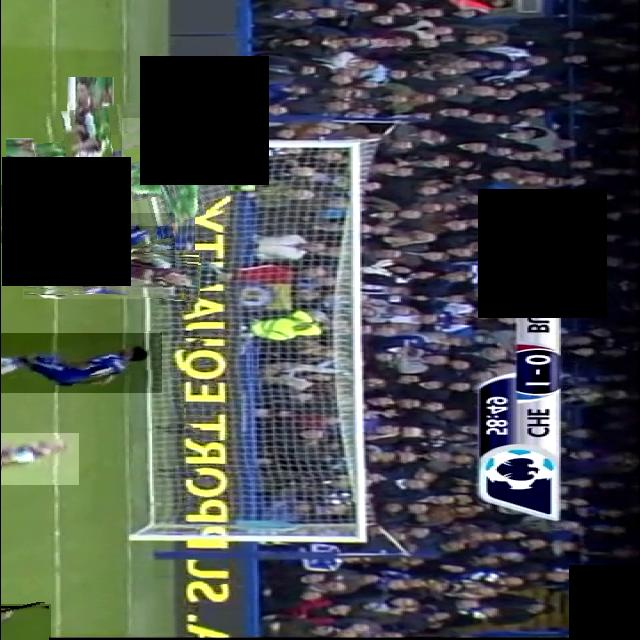goalkeeper: (121, 118, 229, 226)
referee: (0, 604, 50, 640)
soccer-player: (32, 105, 148, 219), (0, 333, 161, 393), (22, 248, 200, 299), (19, 213, 174, 267), (0, 185, 96, 243), (0, 433, 78, 485)
